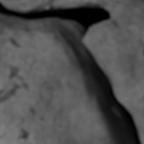broken_brick: (0, 16, 109, 143), (84, 14, 143, 143)
crack: (0, 0, 141, 143)
